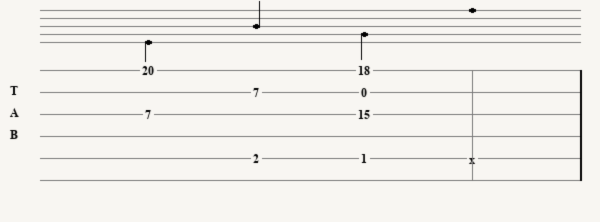0: (361, 86, 371, 99)
1: (361, 152, 371, 165)
15: (358, 108, 374, 121)
18: (358, 64, 374, 77)
2: (253, 152, 263, 165)
20: (142, 64, 158, 77)
7: (145, 108, 155, 121), (253, 86, 263, 99)
x: (469, 153, 479, 163)
